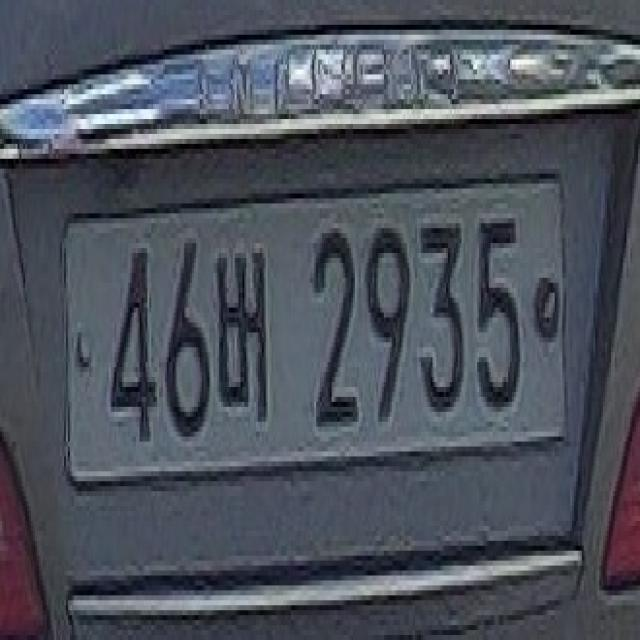plat: (60, 174, 570, 485)
